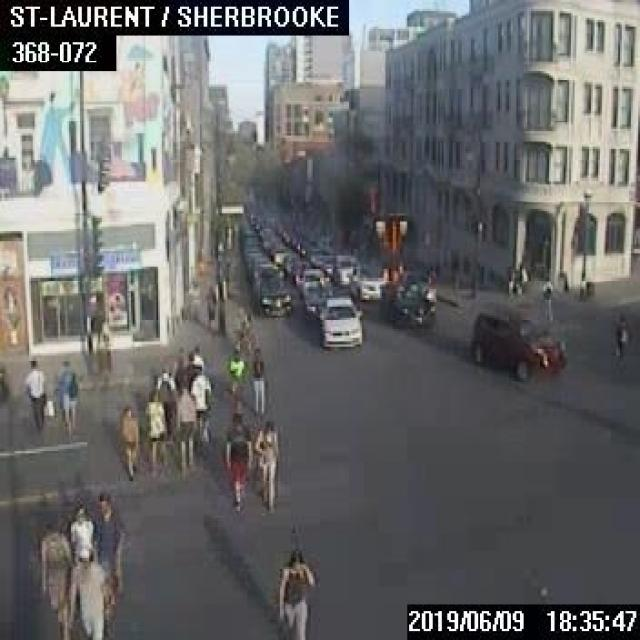pedestrian: (274, 549, 316, 638), (38, 521, 69, 638), (70, 546, 104, 638), (93, 491, 119, 606), (223, 411, 251, 512), (254, 420, 276, 506), (173, 385, 194, 472), (144, 388, 164, 472), (68, 496, 93, 560), (190, 367, 210, 447), (24, 355, 44, 429), (54, 356, 74, 426), (226, 347, 246, 411), (120, 406, 137, 476), (251, 345, 264, 415), (613, 314, 631, 364), (536, 274, 553, 322), (576, 271, 594, 316), (155, 364, 173, 407), (507, 262, 524, 296), (204, 286, 216, 331), (174, 356, 189, 389), (186, 351, 200, 379), (190, 344, 202, 370)
vehicle: (466, 304, 568, 382), (380, 279, 434, 326), (316, 295, 361, 348), (346, 264, 386, 298), (301, 275, 334, 315), (258, 276, 290, 314), (331, 254, 362, 284), (0, 364, 9, 400)
